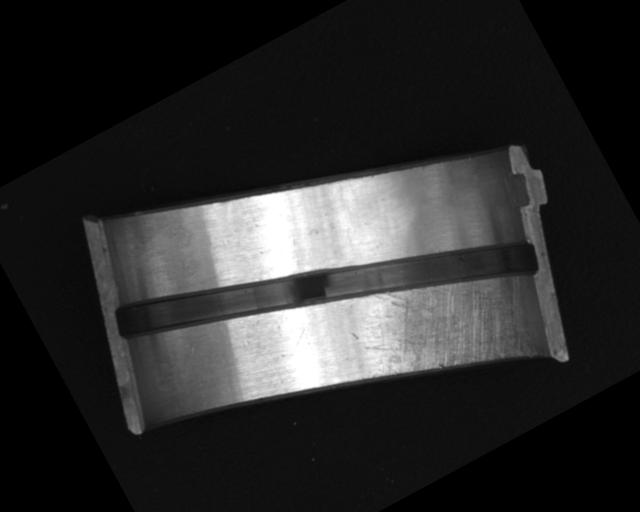gap: (107, 119, 545, 461)
scratch: (345, 233, 545, 421)
